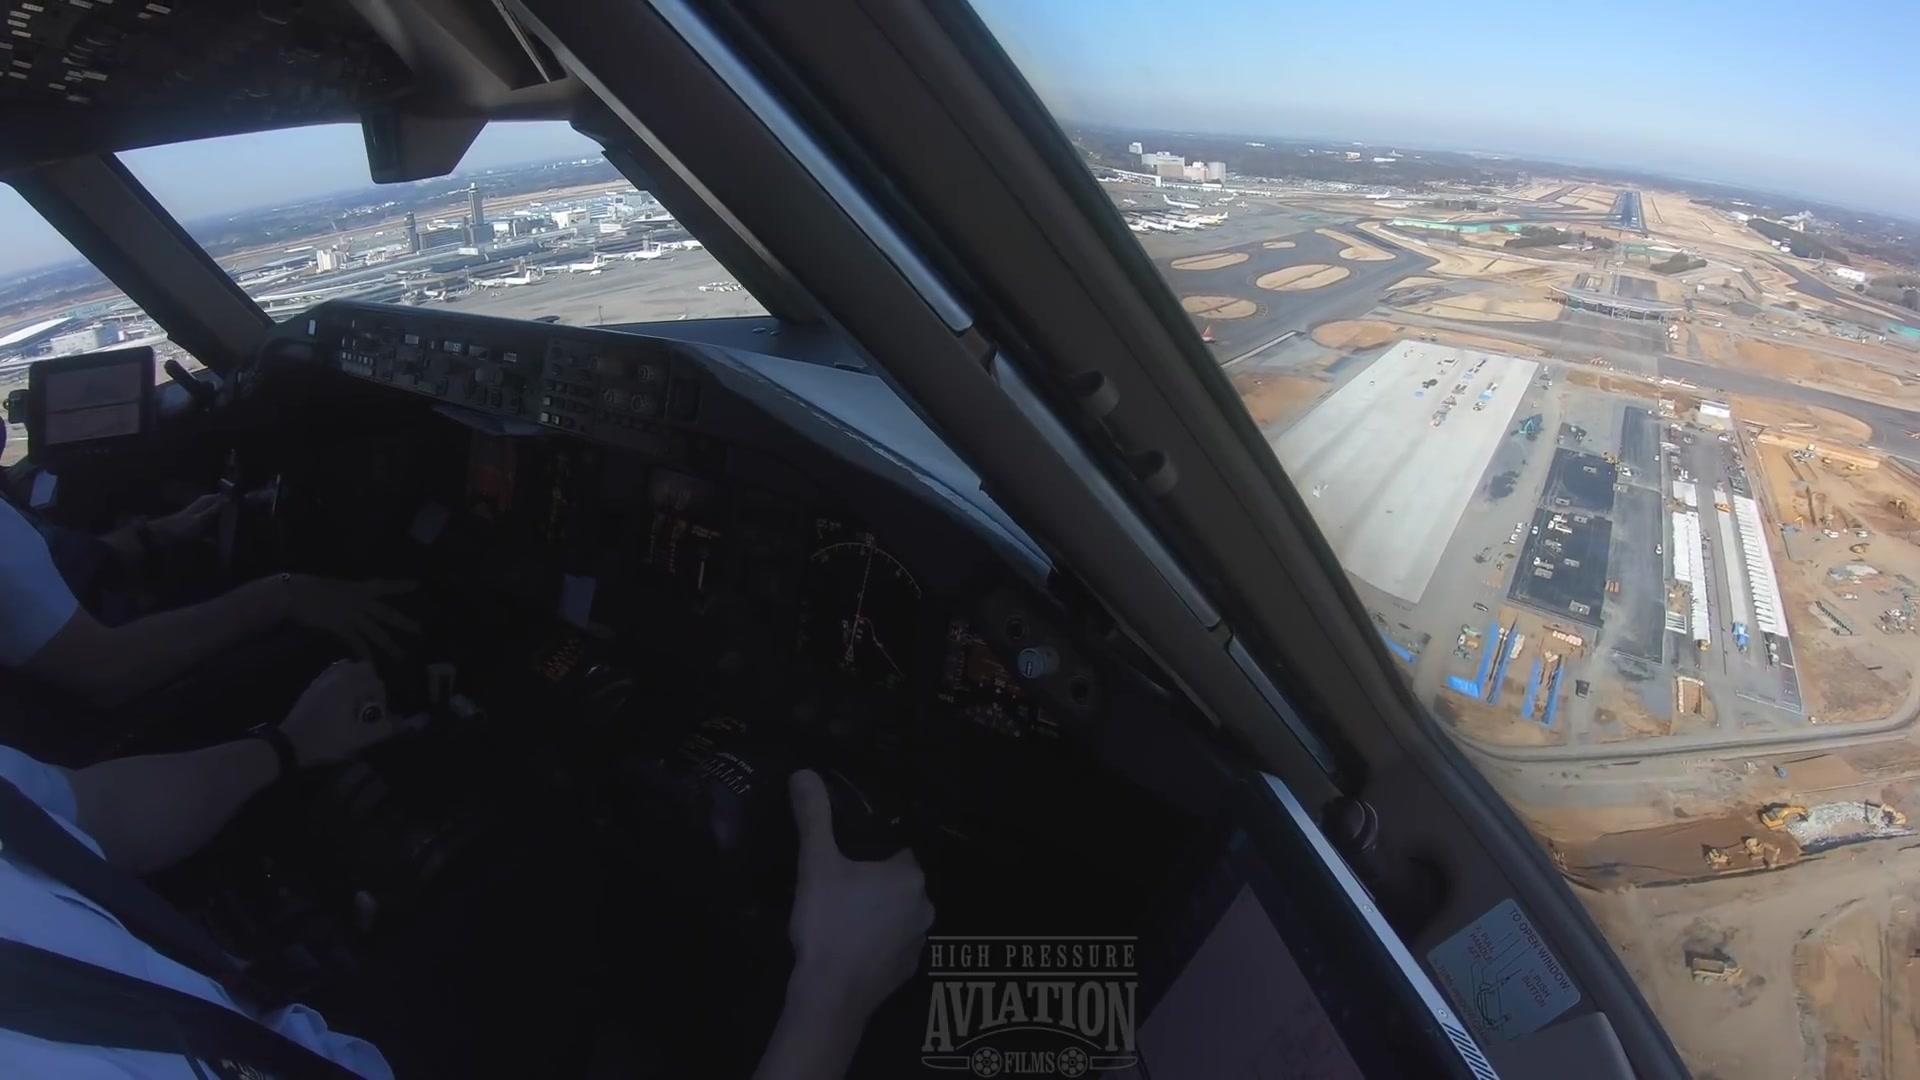runway: (1602, 190, 1644, 233)
